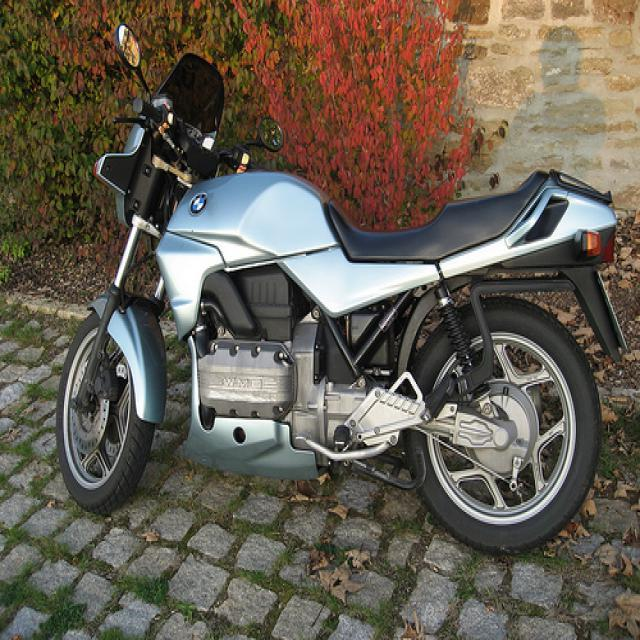Motorbike: (46, 9, 628, 569)
